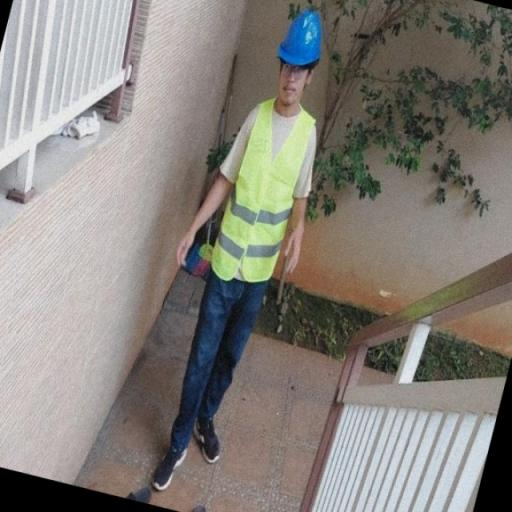Person: (142, 8, 349, 500)
boots: (147, 430, 195, 493), (188, 405, 226, 467)
helmet: (279, 6, 323, 67)
none: (170, 218, 208, 280), (282, 224, 320, 274)
